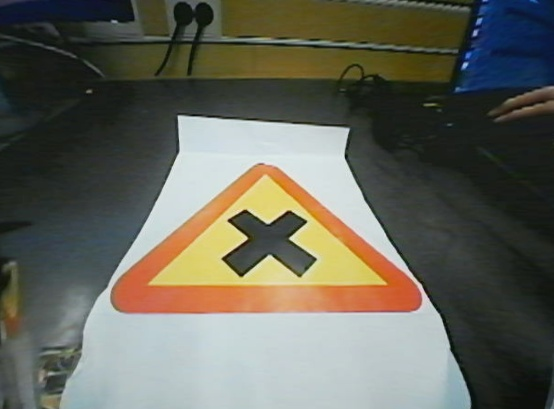junction: (100, 149, 433, 315)
